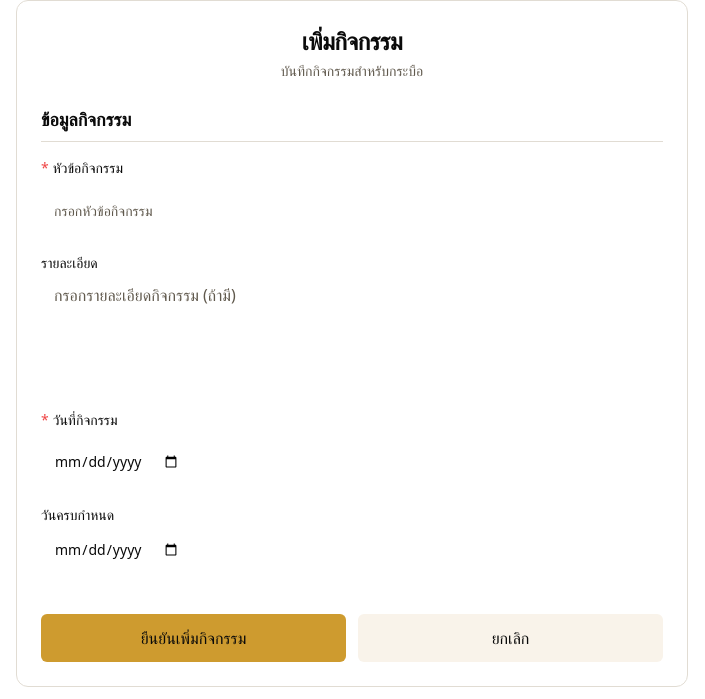
Scenario: CreateActivityForm Component › Form Validation › shows validation error when submitting without title
Click the button "ยืนยันเพิ่มกิจกรรม" at [194, 638], box [41, 614, 346, 662]
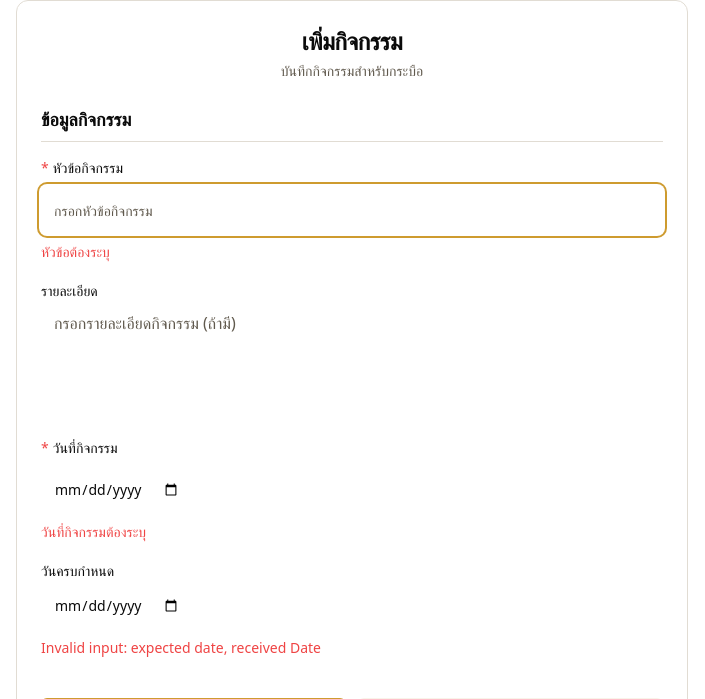
Check: the text "หัวข้อต้องระบุ" is shown, box [41, 242, 110, 261]
